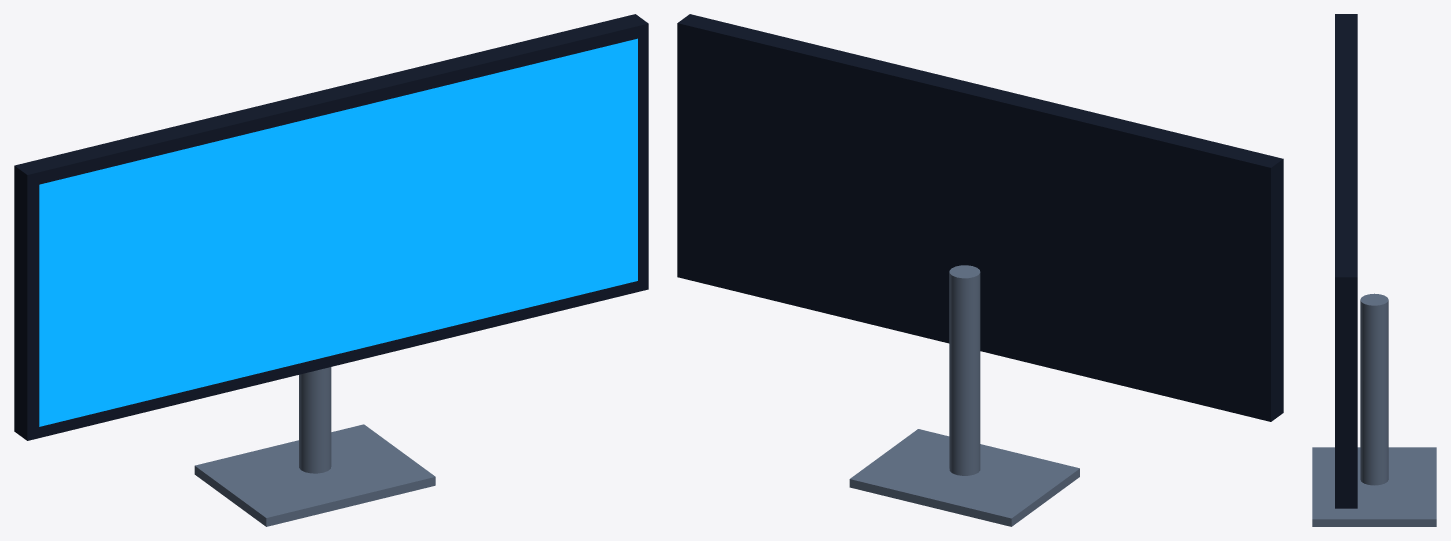
Rendered from ultrawide-monitor.glb.
The picture shows the model from 3 angles, left to right: view 1: azimuth 30°, elevation 25°; view 2: azimuth 150°, elevation 25°; view 3: azimuth 270°, elevation 25°; orthographic projection. The views are drawn at different scales.
Visible parts, largest first — view 1: UltrawideMonitor; view 2: UltrawideMonitor; view 3: UltrawideMonitor.
Part boxes in pixels (<box>): UltrawideMonitor: <box>14,14,648,526</box>; UltrawideMonitor: <box>677,14,1283,526</box>; UltrawideMonitor: <box>1312,14,1436,526</box>.
Bounding box in the file's own units: 1.1 × 0.6725 × 0.22.
